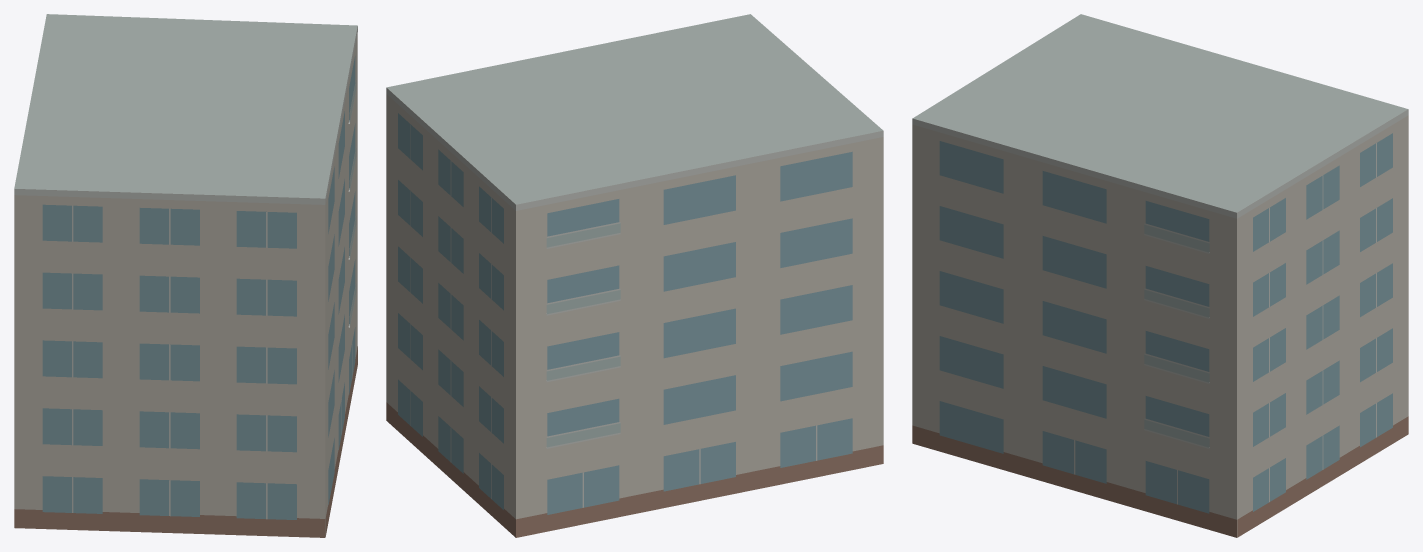
File: survey-upis-32695363.glb
3 renders of one model, left to right at view 1: azimuth 30°, elevation 25°; view 2: azimuth 150°, elevation 25°; view 3: azimuth 270°, elevation 25°, orthographic. The views are drawn at different scales.
Parts seen in each view (by area): view 1: survey-upis-32695363.tmp; view 2: survey-upis-32695363.tmp; view 3: survey-upis-32695363.tmp.
Boxes of the visible parts, x1,y1,x2,y2 form: survey-upis-32695363.tmp: (14,14,357,537); survey-upis-32695363.tmp: (386,14,883,537); survey-upis-32695363.tmp: (912,14,1408,537).
Size of the model in its own units: 17.18 by 13.1 by 18.12.
